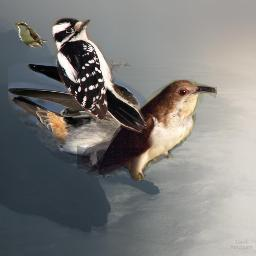Cuckoo: (77, 79, 217, 181), (13, 20, 47, 48)
Swallow: (8, 63, 161, 177)
Woodpecker: (51, 17, 147, 135)
